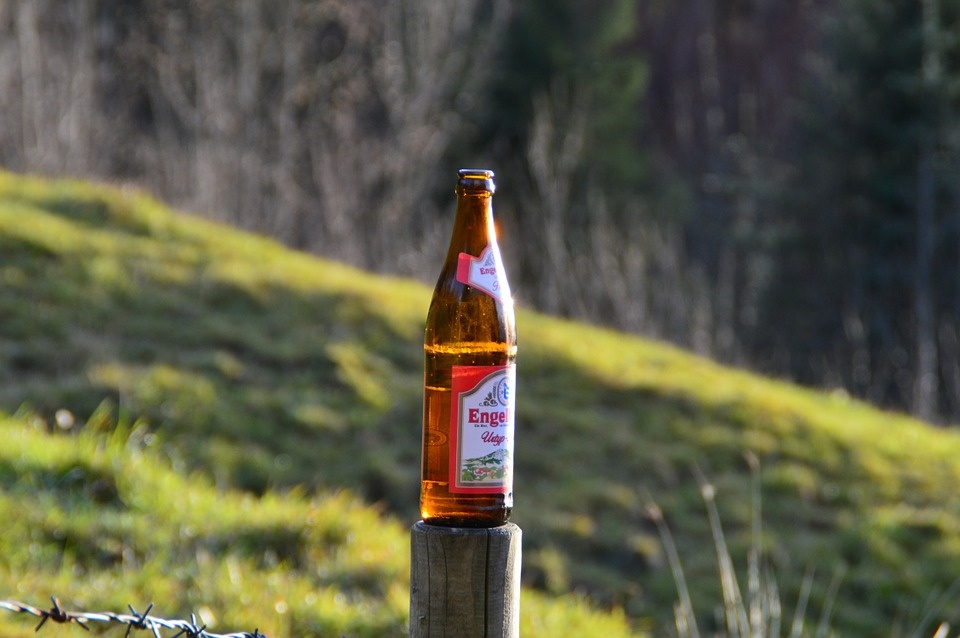beerBottle: (417, 169, 516, 523)
